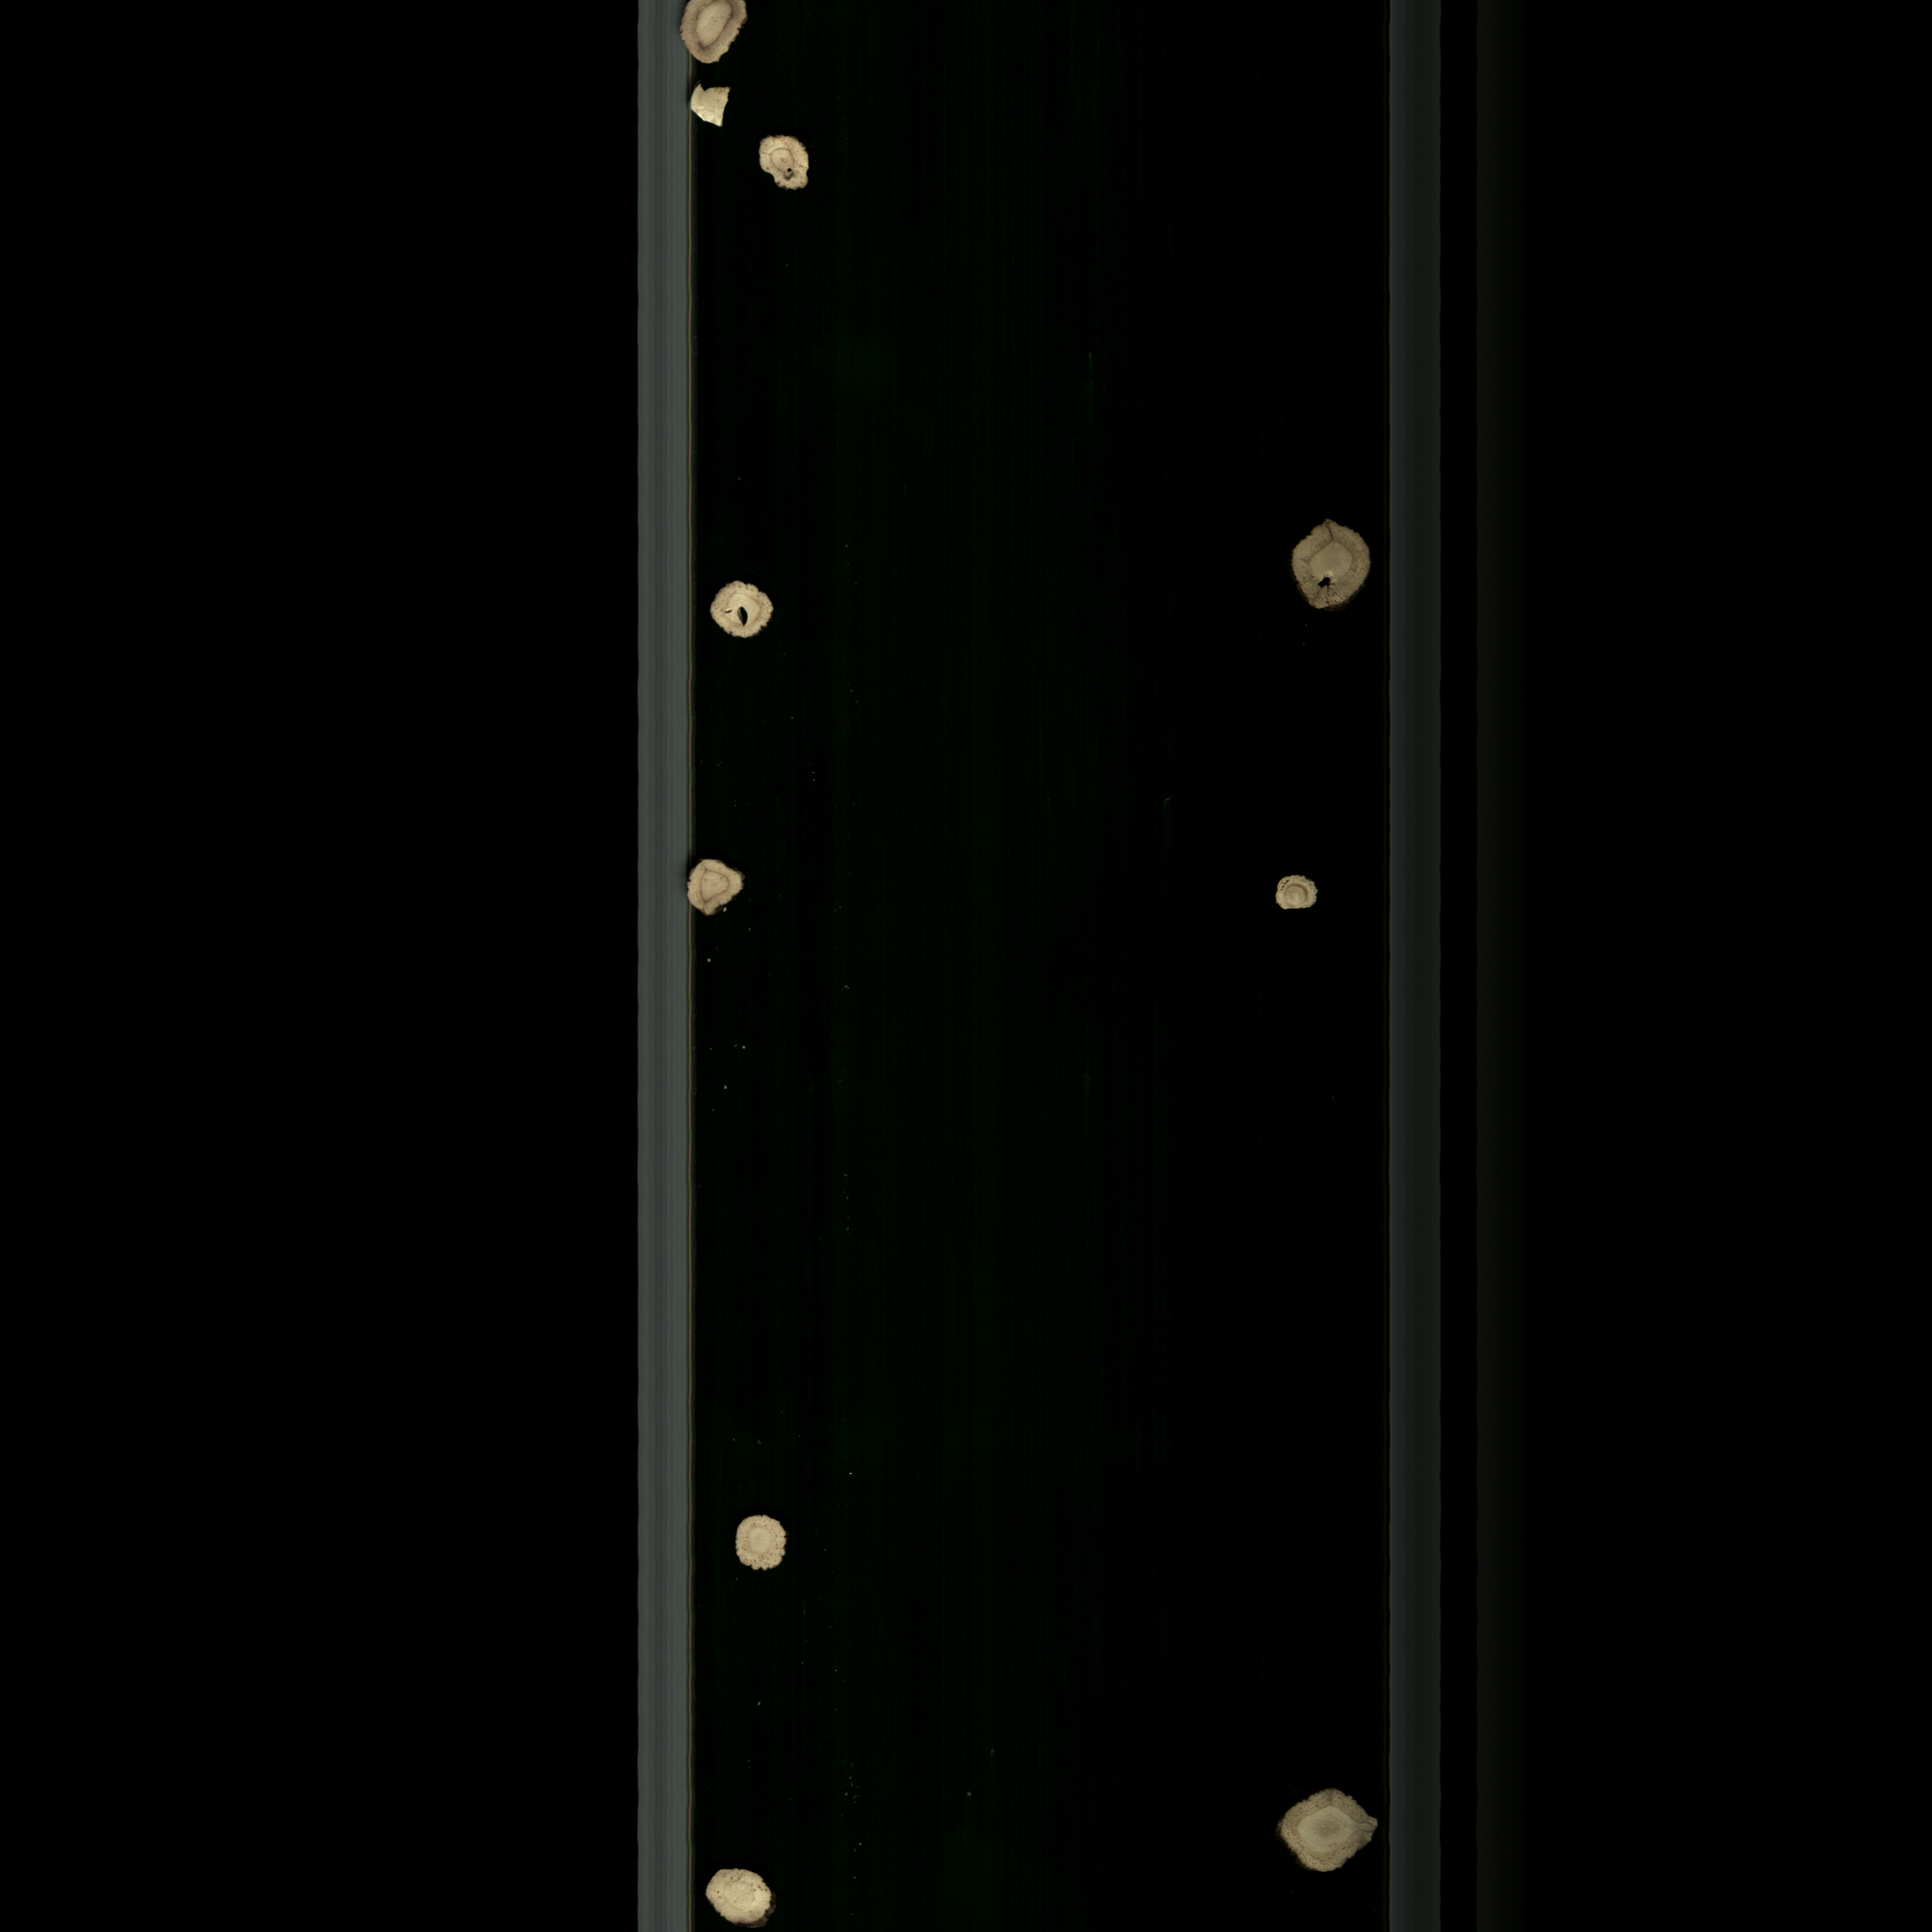distortion: (1270, 1778, 1382, 1884), (752, 129, 823, 205), (681, 856, 754, 925)
dreg: (1260, 870, 1329, 925), (685, 81, 734, 142)
hole: (1279, 508, 1375, 626), (697, 573, 782, 649)
moldy: (669, 0, 755, 74)
